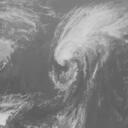cyclone: (48, 39, 81, 91)
